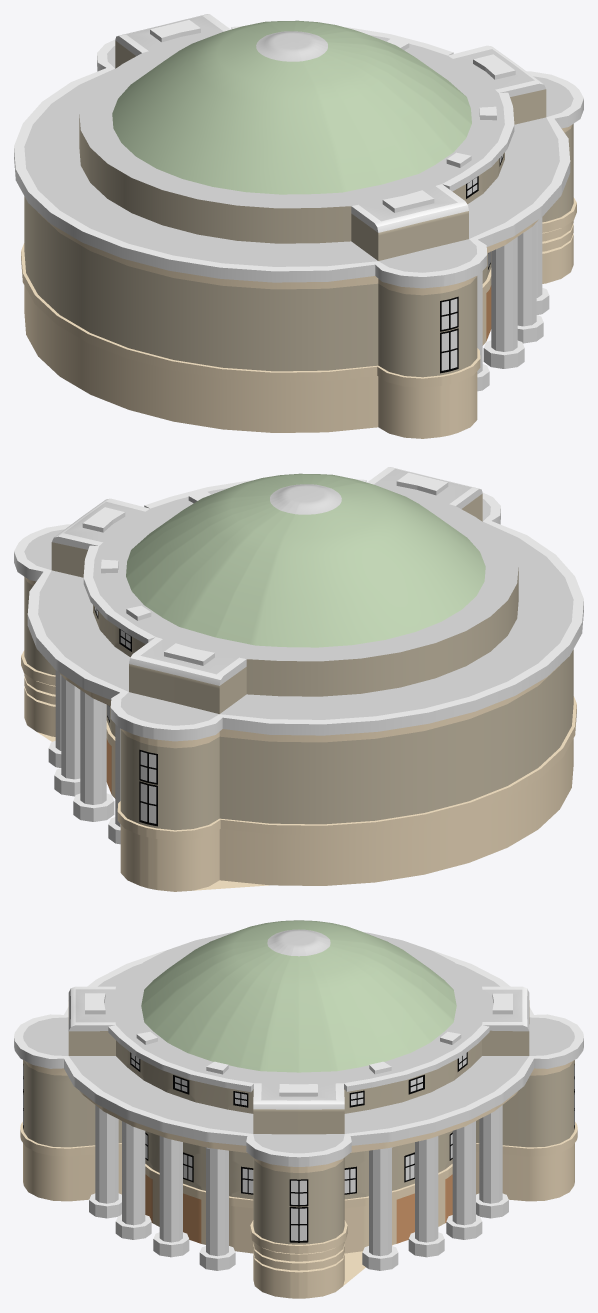
File: Conv.fbx
3 renders of one model, top to bottom at view 1: azimuth 30°, elevation 25°; view 2: azimuth 150°, elevation 25°; view 3: azimuth 270°, elevation 25°, orthographic. The views are drawn at different scales.
Visible parts, largest first — view 1: polySurface7; view 2: polySurface7; view 3: polySurface7.
Part boxes in pixels (x1,y1,x2,y2): polySurface7: (14, 14, 583, 438); polySurface7: (14, 467, 583, 891); polySurface7: (14, 920, 583, 1298).
Size of the model in its own units: 2.25 by 1.15 by 2.43.
